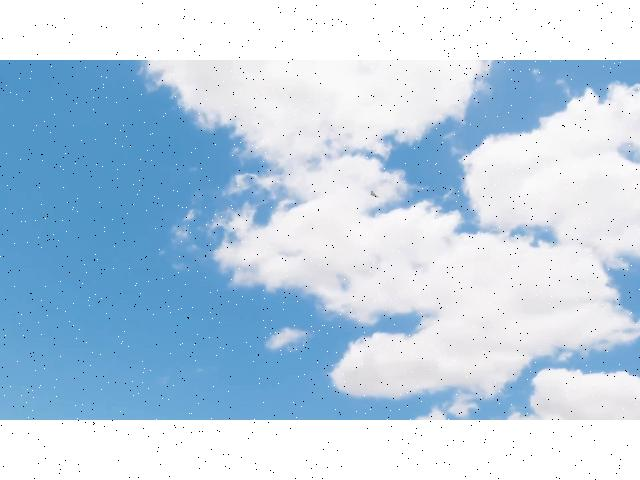Anti-Drone: (366, 182, 384, 200)
